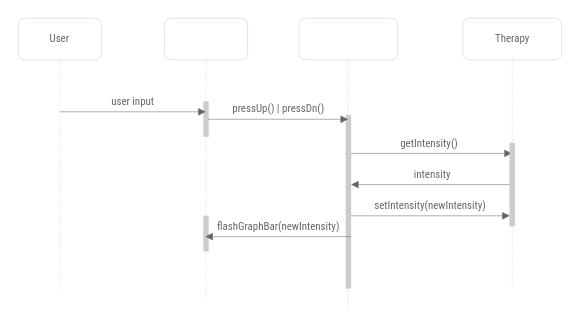
The diagram is 579 pixels wide and 328 high, and some of its shapes have lost their labels. The shapes that lost their labels are listed below. From the top down, each one's box as (x1, y1, x2, y2) in pixels, then its label:
(164, 17, 247, 299): UI
(298, 17, 398, 309): MainWindow
